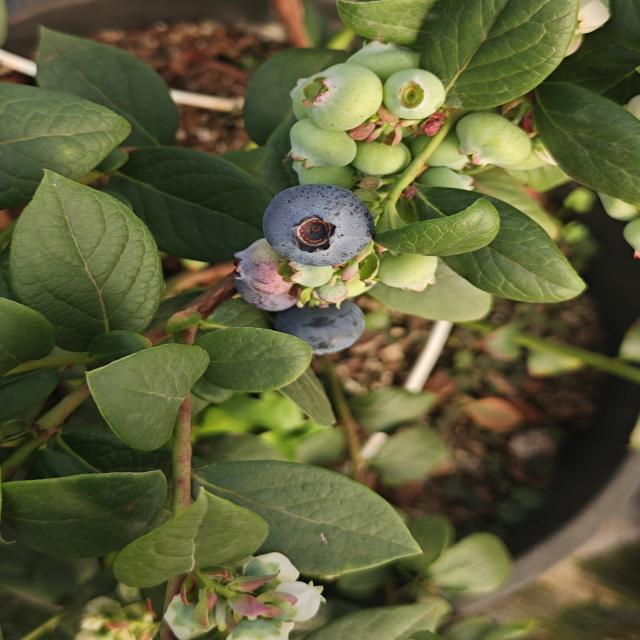ripe: (254, 177, 380, 268), (286, 303, 368, 353), (226, 265, 304, 314)
